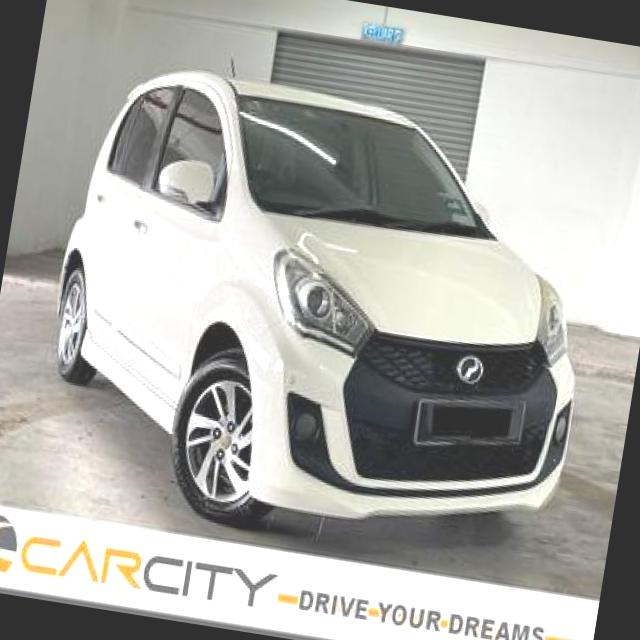PeroduaMyvi: (23, 42, 620, 576)
